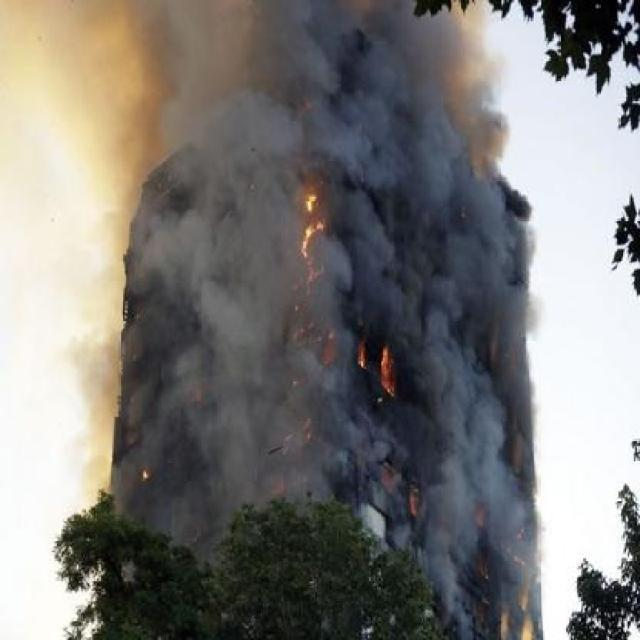Fire: (294, 182, 326, 272), (370, 332, 397, 394)
Smoke: (110, 2, 541, 578)
